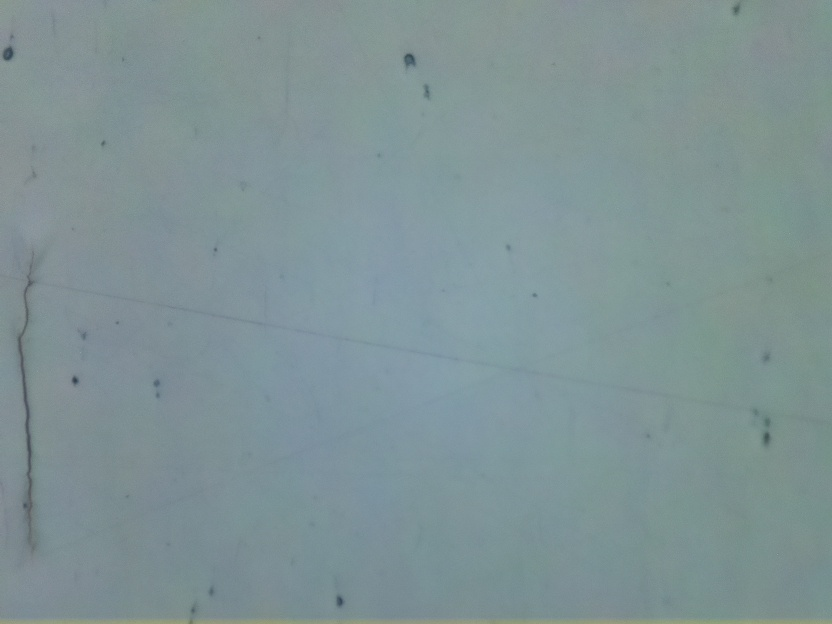crack: (6, 253, 41, 554)
